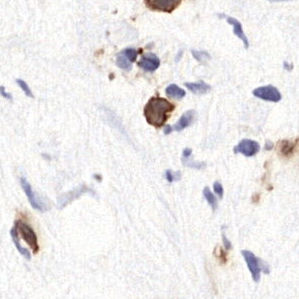Lymphocyte: (142, 96, 175, 129)
